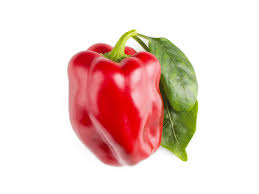bell pepper: (55, 31, 169, 171)
